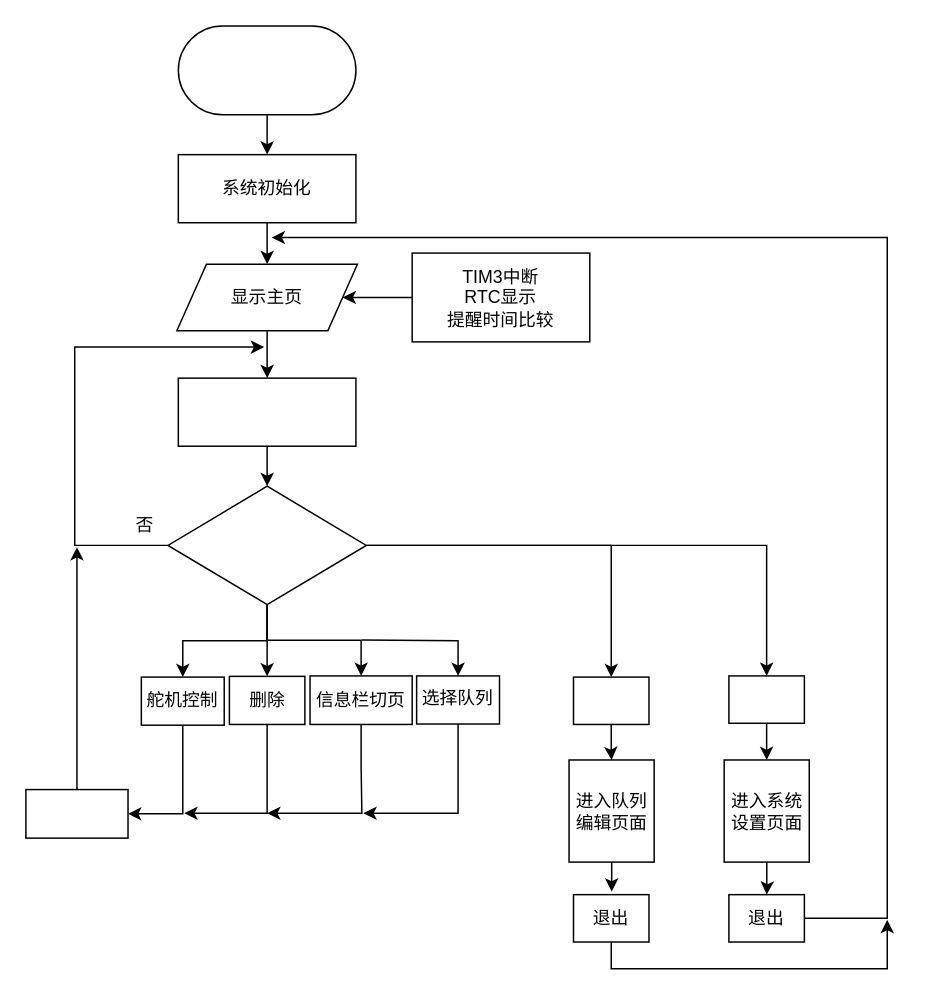
The diagram is 925 pixels wide and 1006 high, and some of its shapes have lost their labels. The centre of each missing label's shape, as x and y in pixels:
"执行" belongs at point 76,813.
"扫码触摸按键" belongs at point 266,411.
"添加" belongs at point 610,700.
"系统启动" belongs at point 266,69.
"设置" belongs at point 765,698.
"识别按键" belongs at point 266,545.
